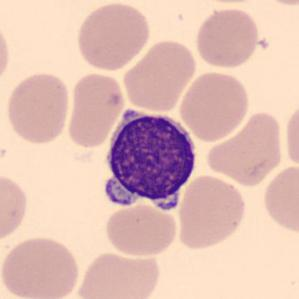Lymphocyte: (96, 104, 201, 218)
RBC: (204, 108, 286, 188), (119, 37, 198, 113), (174, 173, 248, 251), (73, 0, 153, 72), (176, 69, 252, 143), (0, 233, 81, 299), (3, 69, 72, 146), (65, 70, 127, 150), (192, 5, 262, 70), (102, 202, 180, 259), (74, 249, 162, 299), (260, 162, 299, 236), (0, 170, 31, 244), (282, 100, 299, 172), (0, 18, 13, 89), (254, 0, 298, 7)
